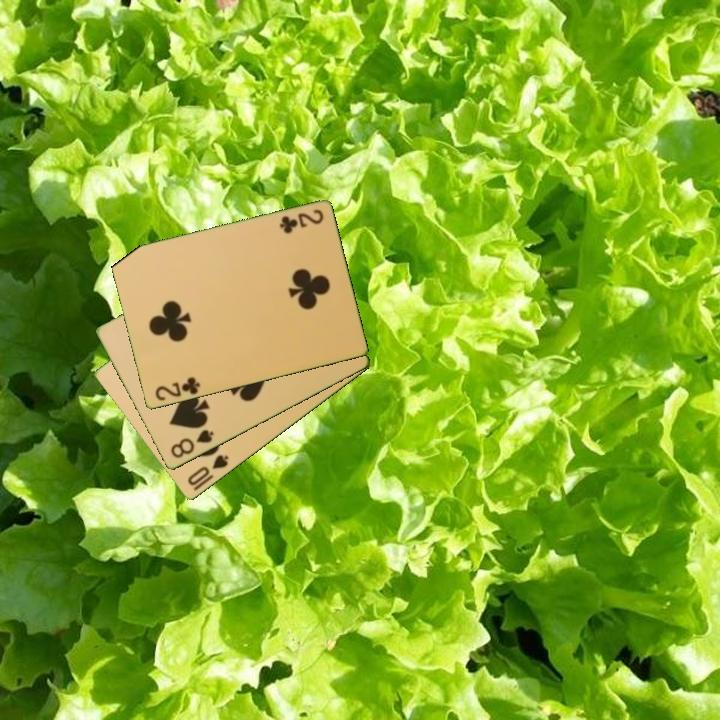10s: (184, 451, 232, 489)
2c: (151, 374, 203, 404), (276, 206, 326, 236)
8s: (167, 426, 217, 462)
